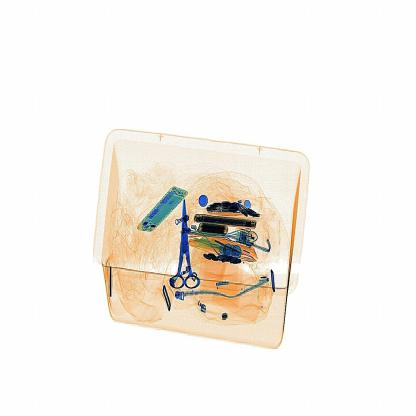gun: (168, 189, 200, 304)
